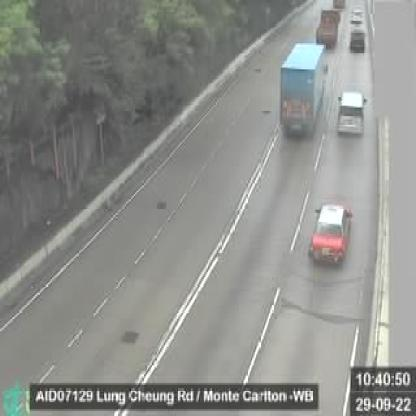Car: (306, 200, 354, 270), (336, 88, 366, 139), (348, 24, 366, 52), (350, 4, 364, 22)
Truck: (273, 40, 330, 140), (313, 7, 341, 47)
